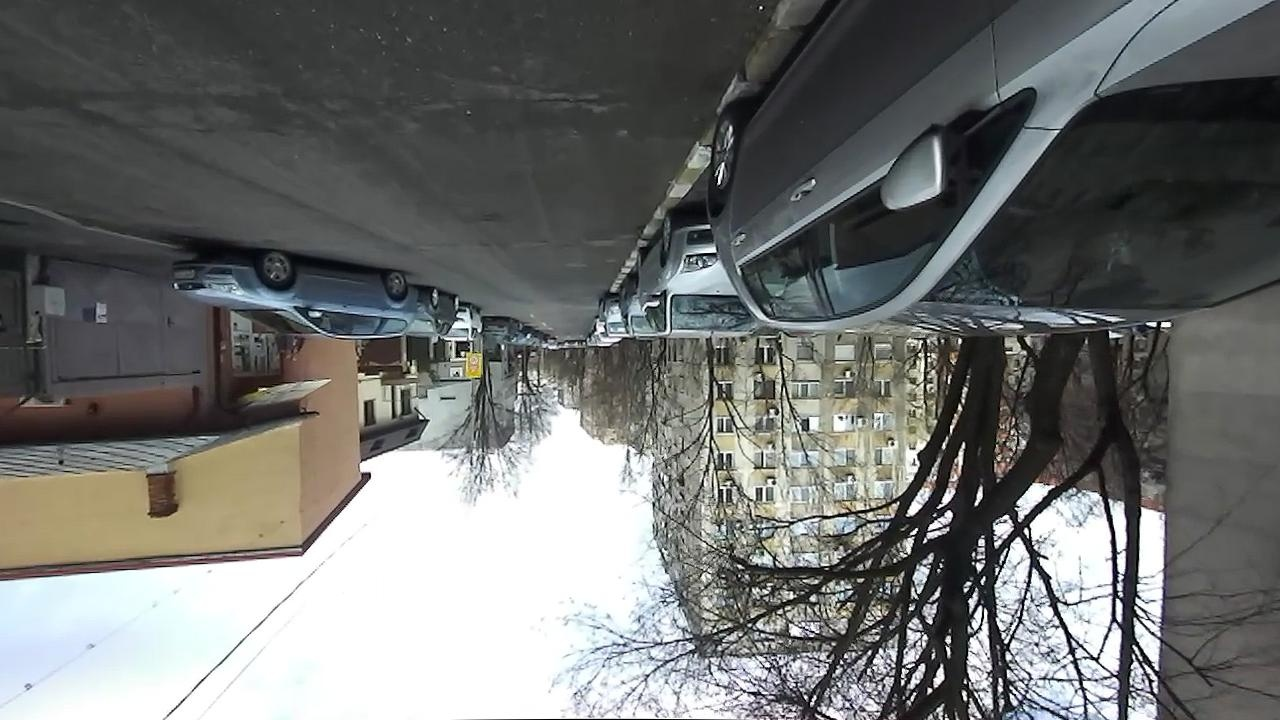pothole: (510, 87, 607, 112), (472, 210, 497, 224)
